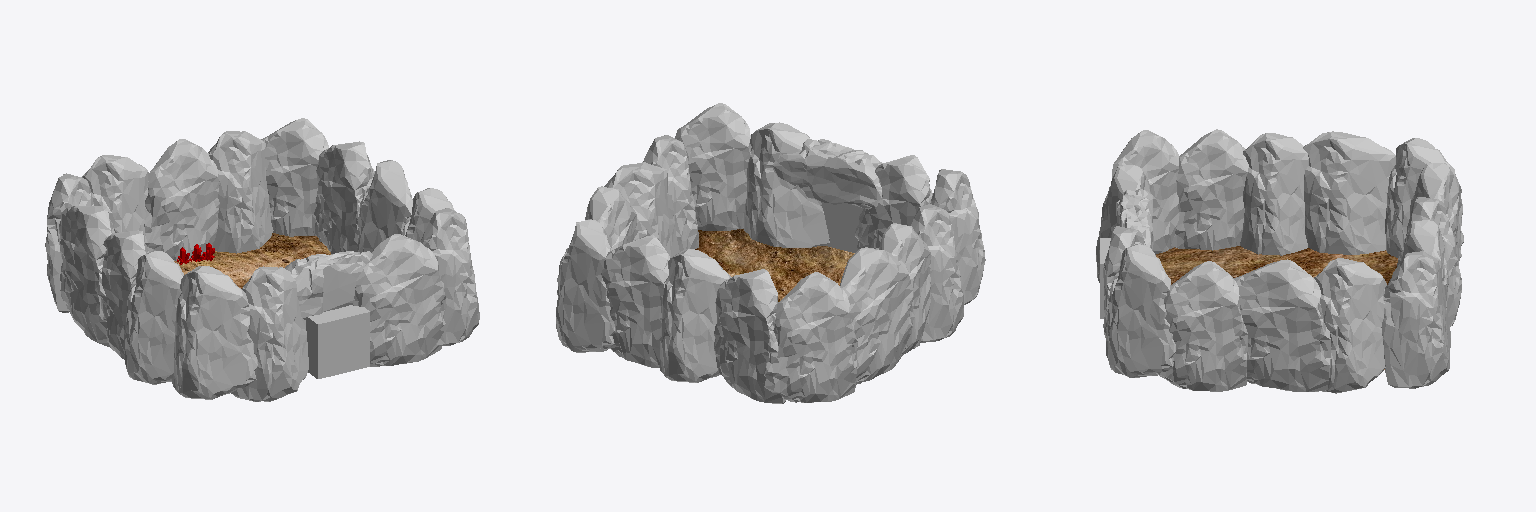
3 views of the same model, side by side, from view 1: azimuth 30°, elevation 25°; view 2: azimuth 150°, elevation 25°; view 3: azimuth 270°, elevation 25° (orthographic).
Visible parts, largest first — view 1: Rock_5.013, Rock_5, Rock_5.005, Rock_5.012, Rock_5.011, Rock_5.006, Rock_5.002, Rock_5.009, Rock_5.007, Rock_5.001, Cube_Cube.001, Rock_9 (+6 smaller); view 2: Rock_5.003, Rock_5.009, Rock_5.005, Rock_5.001, Rock_5.013, Rock_5.004, Rock_5.006, Rock_5.002, Rock_9, Plane_Plane.001, Rock_5.011, Rock_5.012 (+6 smaller); view 3: Rock_5.008, Rock_5.009, Rock_5.014, Rock_5.002, Rock_5.011, Rock_5.001, Rock_5.007, Rock_5.010, Plane_Plane.001, Rock_5, Rock_5.003, Rock_5.004 (+5 smaller).
Part boxes in pixels (left/top/right/bottom): Rock_5.013: left=352, top=234, right=445, bottom=366; Rock_5: left=172, top=266, right=257, bottom=399; Rock_5.005: left=144, top=139, right=219, bottom=260; Rock_5.012: left=231, top=266, right=308, bottom=401; Rock_5.011: left=124, top=250, right=183, bottom=384; Rock_5.006: left=208, top=131, right=273, bottom=253; Rock_5.002: left=261, top=118, right=328, bottom=236; Rock_5.009: left=59, top=206, right=114, bottom=347; Rock_5.007: left=314, top=141, right=374, bottom=253; Rock_5.001: left=421, top=208, right=479, bottom=345; Cube_Cube.001: left=306, top=305, right=369, bottom=378; Rock_9: left=285, top=251, right=372, bottom=319; Rock_5.003: left=764, top=272, right=857, bottom=402; Rock_5.009: left=840, top=247, right=913, bottom=384; Rock_5.005: left=659, top=249, right=731, bottom=382; Rock_5.001: left=675, top=103, right=751, bottom=230; Rock_5.013: left=744, top=122, right=829, bottom=247; Rock_5.004: left=714, top=269, right=785, bottom=403; Rock_5.006: left=601, top=235, right=669, bottom=367; Rock_5.002: left=556, top=219, right=614, bottom=352; Rock_9: left=773, top=139, right=882, bottom=208; Plane_Plane.001: left=695, top=229, right=854, bottom=301; Rock_5.011: left=911, top=204, right=963, bottom=342; Rock_5.012: left=855, top=155, right=932, bottom=249; Rock_5.008: left=1233, top=259, right=1331, bottom=391; Rock_5.009: left=1303, top=131, right=1395, bottom=254; Rock_5.014: left=1156, top=261, right=1247, bottom=391; Rock_5.002: left=1381, top=251, right=1450, bottom=388; Rock_5.011: left=1171, top=129, right=1248, bottom=250; Rock_5.001: left=1106, top=244, right=1175, bottom=377; Rock_5.007: left=1314, top=258, right=1386, bottom=393; Rock_5.010: left=1240, top=133, right=1308, bottom=255; Plane_Plane.001: left=1156, top=246, right=1397, bottom=369; Rock_5: left=1107, top=130, right=1178, bottom=254; Rock_5.003: left=1385, top=138, right=1463, bottom=257; Rock_5.004: left=1404, top=162, right=1462, bottom=260.
Size of the model in its own units: 2.45 by 0.9757 by 2.43.
5 materials, 1 textured.